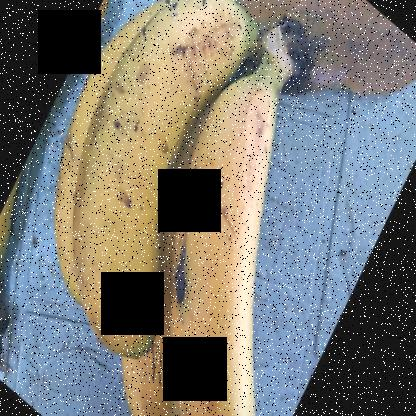ripe: (62, 0, 237, 359), (149, 62, 291, 415)
